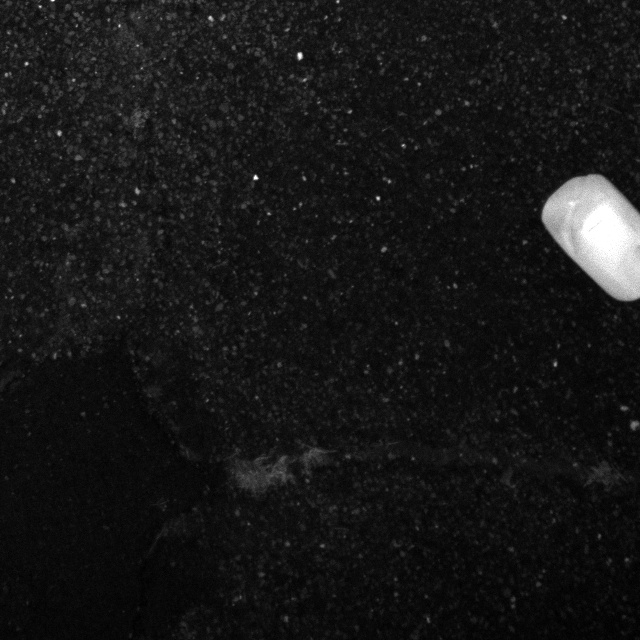can: (527, 138, 640, 319)
